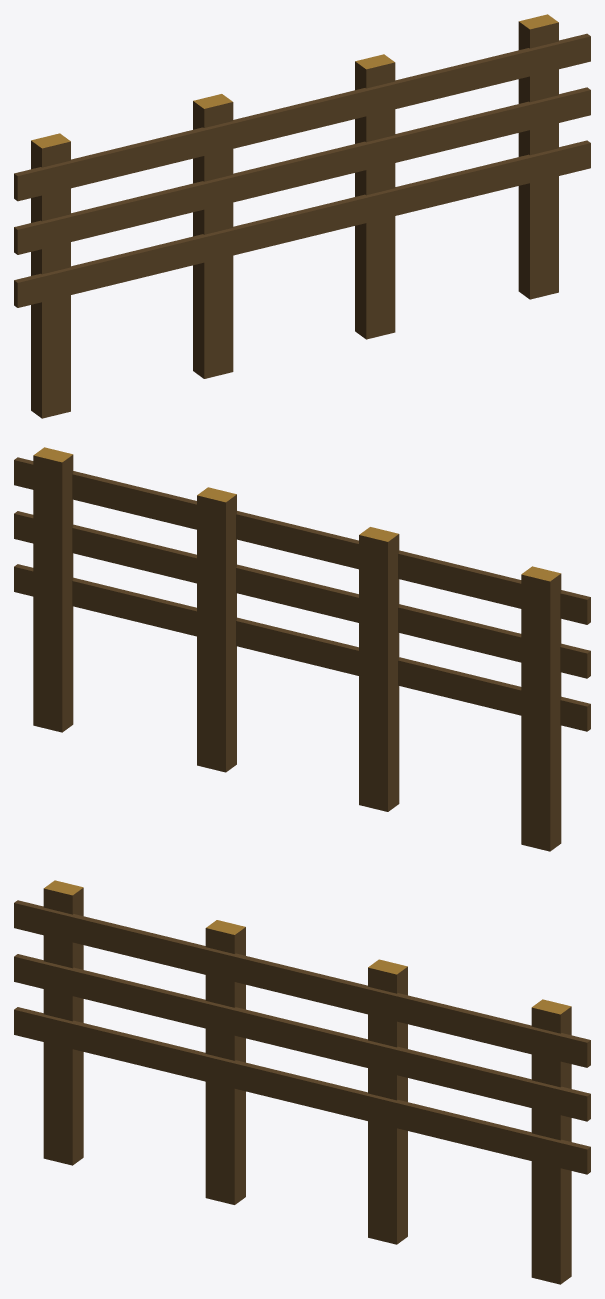
File: fence.fbx
3 renders of one model, top to bottom at view 1: azimuth 30°, elevation 25°; view 2: azimuth 150°, elevation 25°; view 3: azimuth 330°, elevation 25°, orthographic.
Parts seen in each view (by area): view 1: Cube.006; view 2: Cube.006; view 3: Cube.006.
Boxes of the visible parts, x1=… form: Cube.006: x1=14, y1=14, x2=590, y2=418; Cube.006: x1=14, y1=447, x2=590, y2=851; Cube.006: x1=14, y1=880, x2=590, y2=1284.
Bounding box in the file's own units: 1280 × 576 × 53.4.
